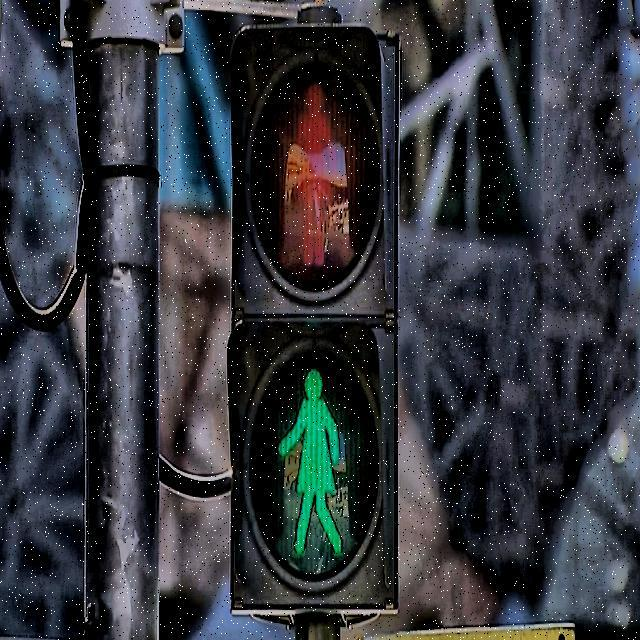green_light: (274, 364, 346, 560)
